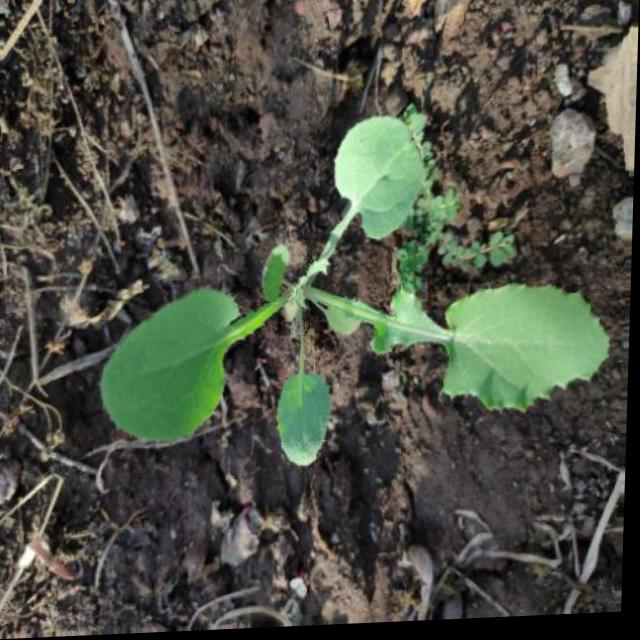weed: (78, 104, 622, 462)
